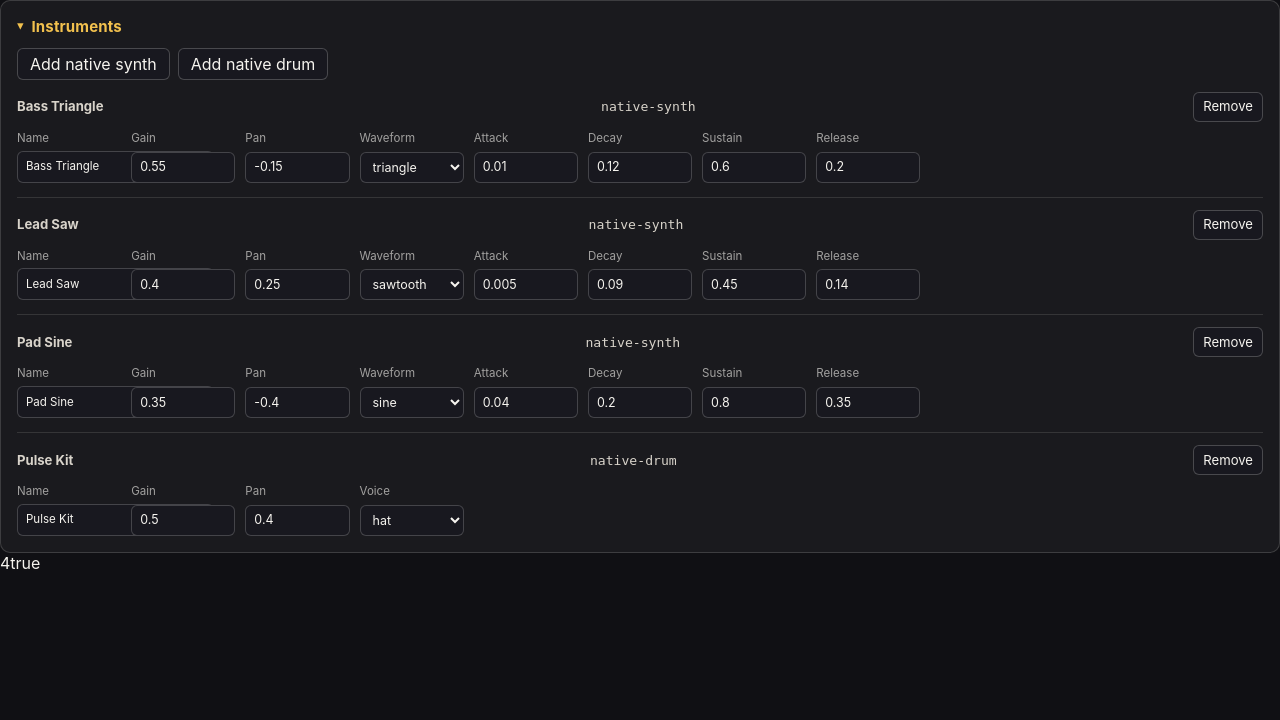
InstrumentPanel add and remove › repoints a Control Part instead of refusing, and says so
Click the button "Remove" in the row of "Bass Triangle".
click(1228, 107)  # box [1193,92,1263,122]
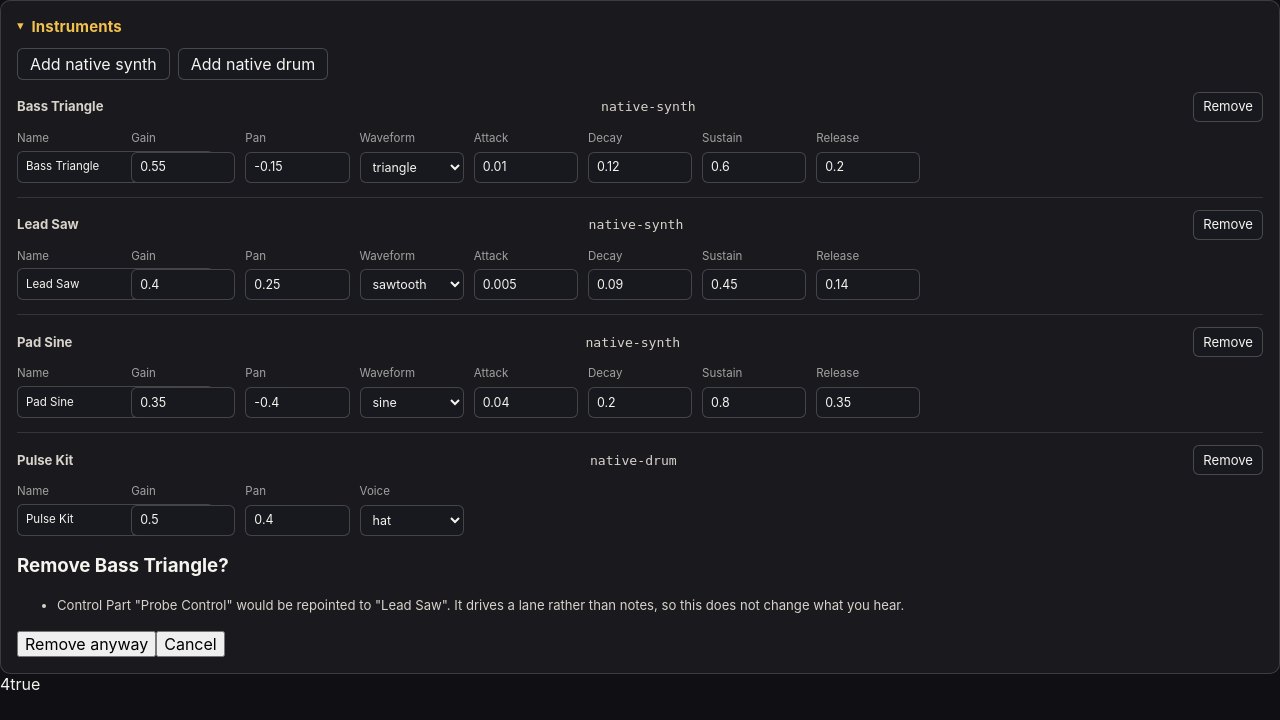
Now the dialog named "Confirm Instrument removal" shows "Probe Control", box [57,597,904,613]
Now the dialog named "Confirm Instrument removal" shows "does not change what you hear", box [57,597,904,613]
Click the button "Remove anyway".
click(87, 644)  # box [17,631,156,657]
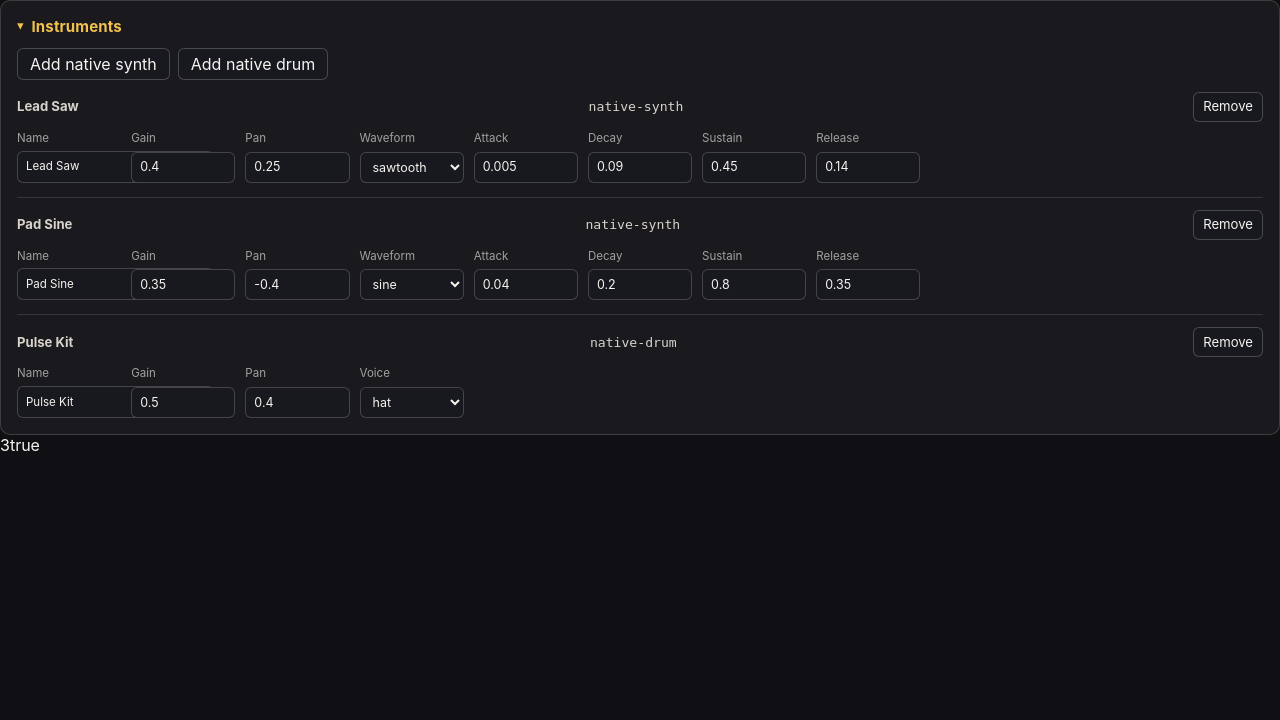
Expected: the text named "Composition valid" reads "true", [10,435,40,455]
Now the text named "Instrument count" reads "3", box [0,435,10,455]
